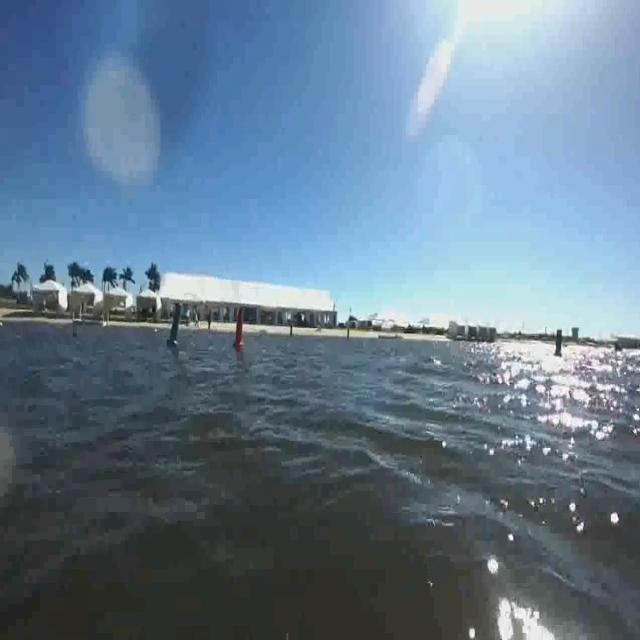green-column-buoy: (168, 306, 183, 349)
red-column-buoy: (234, 310, 247, 352)
